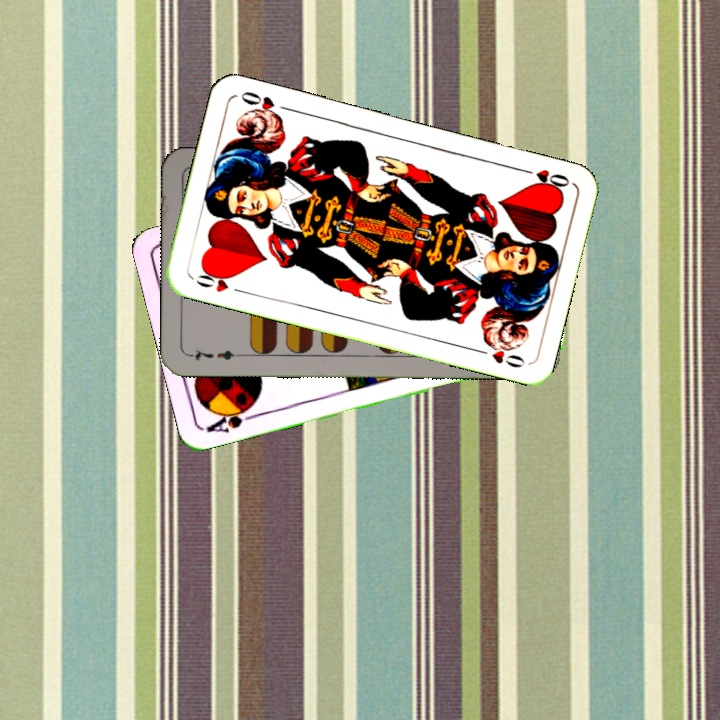E7: (185, 345, 244, 364)
HO: (515, 164, 573, 193), (192, 265, 246, 296)
SA: (203, 400, 261, 436)
